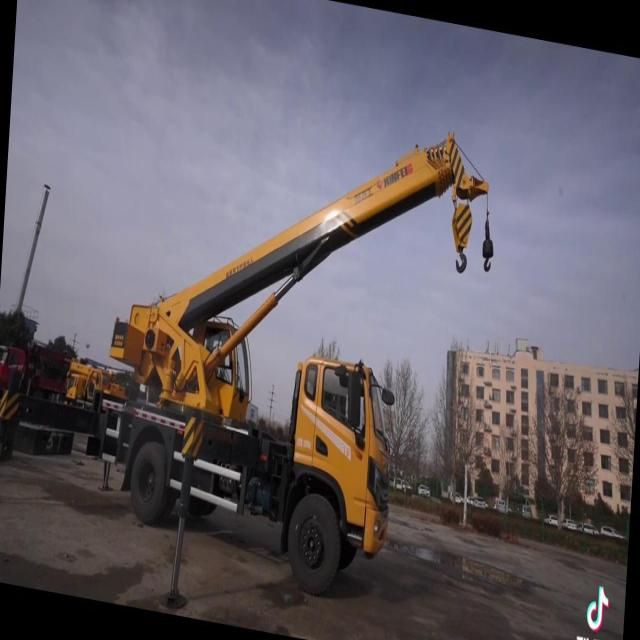crane: (0, 45, 502, 640)
